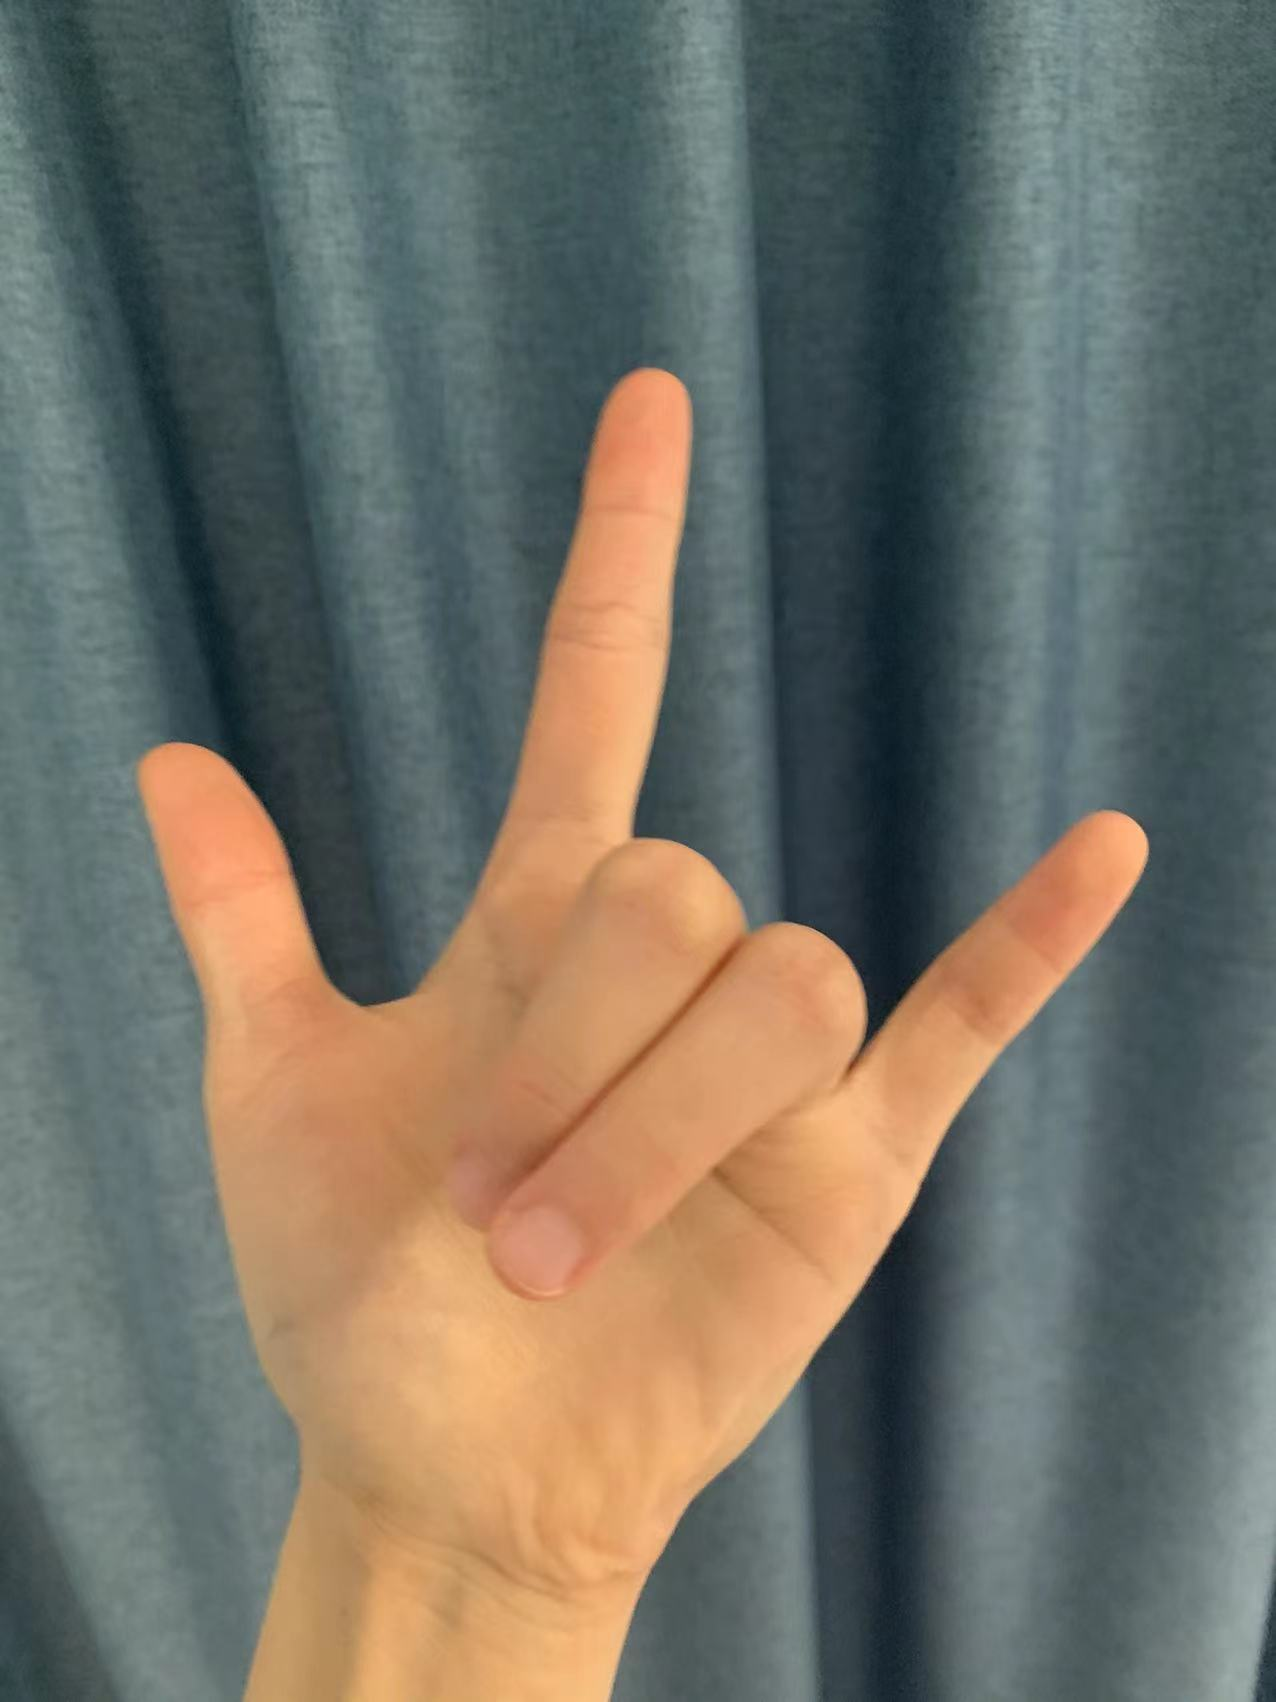back: (125, 367, 1159, 1510)
